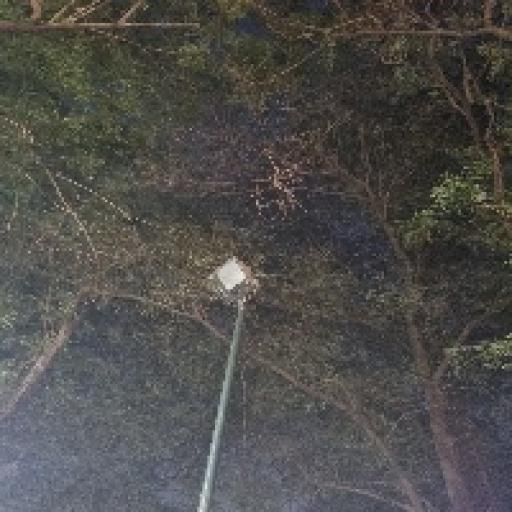Not Working: (188, 245, 267, 318)
